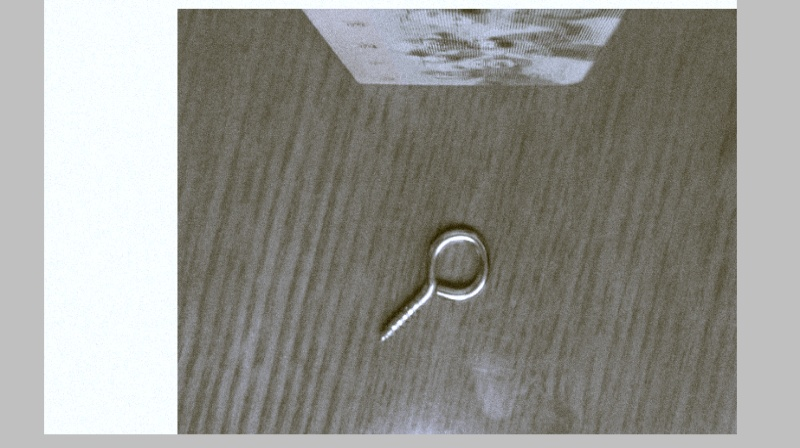O001: (374, 222, 492, 346)
